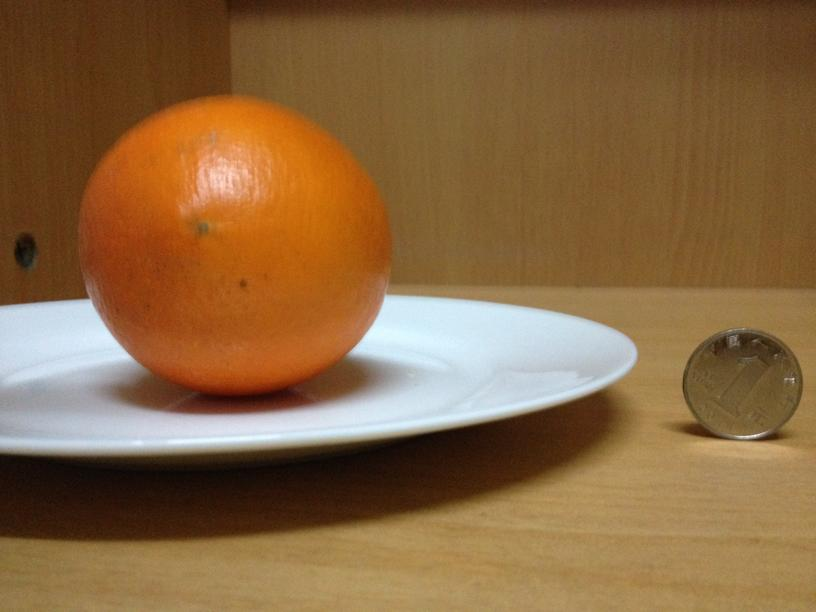coin: (685, 324, 802, 442)
orange: (81, 90, 391, 396)
